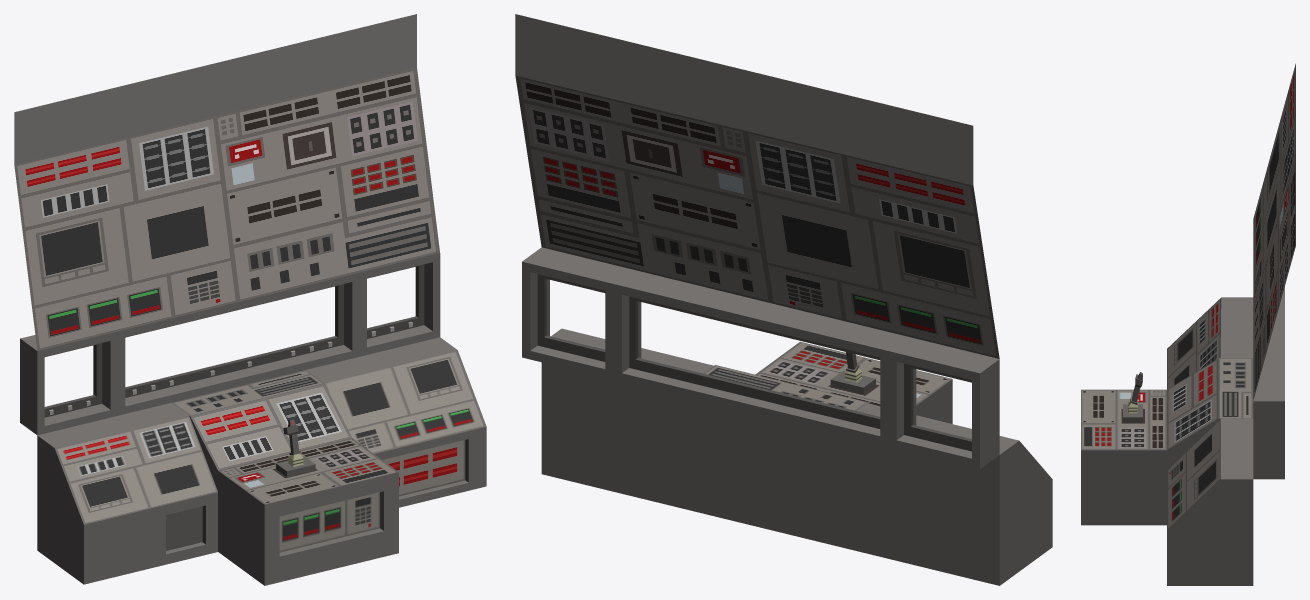
The model's file is NewConsole.fbx.
The picture shows the model from 3 angles, left to right: view 1: azimuth 30°, elevation 25°; view 2: azimuth 150°, elevation 25°; view 3: azimuth 270°, elevation 25°; orthographic projection. The views are drawn at different scales.
Visible parts, largest first — view 1: SM_Env_Consoles_01; view 2: SM_Env_Consoles_01; view 3: SM_Env_Consoles_01.
Part boxes in pixels (x1,y1,x2,y2): SM_Env_Consoles_01: (14,14,486,585); SM_Env_Consoles_01: (515,14,1052,585); SM_Env_Consoles_01: (1081,63,1295,585).
Bounding box in the file's own units: 5 × 5 × 2.5.
